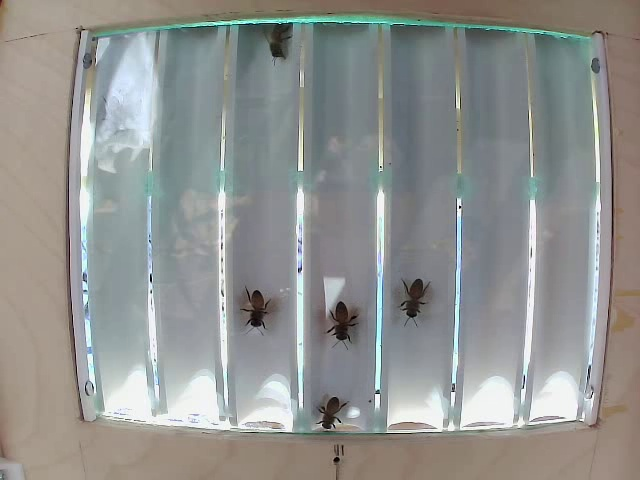bee: (236, 280, 274, 338), (315, 291, 354, 342), (270, 11, 310, 60), (316, 381, 350, 437), (390, 268, 418, 318)
